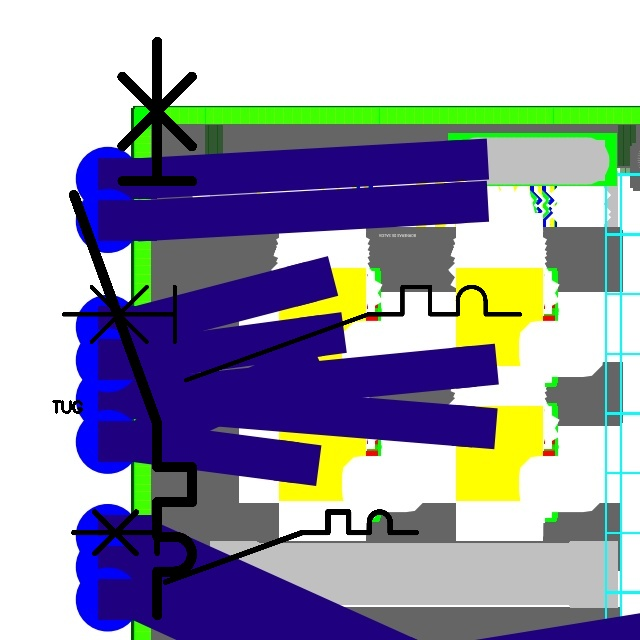interruptor_termomagnetico: (59, 27, 207, 630), (52, 275, 532, 392), (65, 503, 425, 591)
